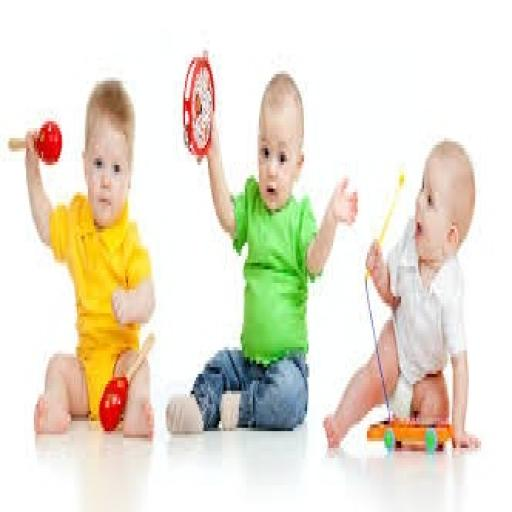baby: (167, 75, 357, 434), (324, 142, 479, 447), (25, 81, 155, 434)
